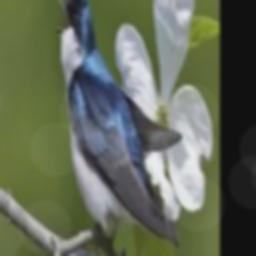Swallow: (55, 0, 182, 253)
